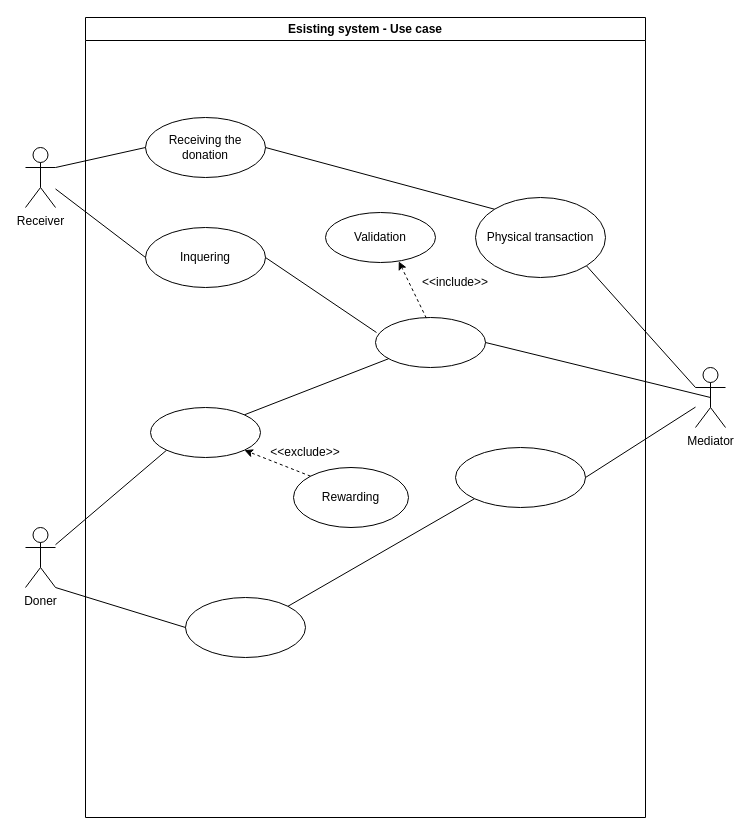
Some shapes in this 751 by 835 pixel diagram are drawn without their labels. The centre of each missing label's shape, as x and y in pixels:
Checking: pixel 205 432
Checking the availability: pixel 430 342
Making a donation: pixel 245 627
Receiving donation: pixel 520 477
